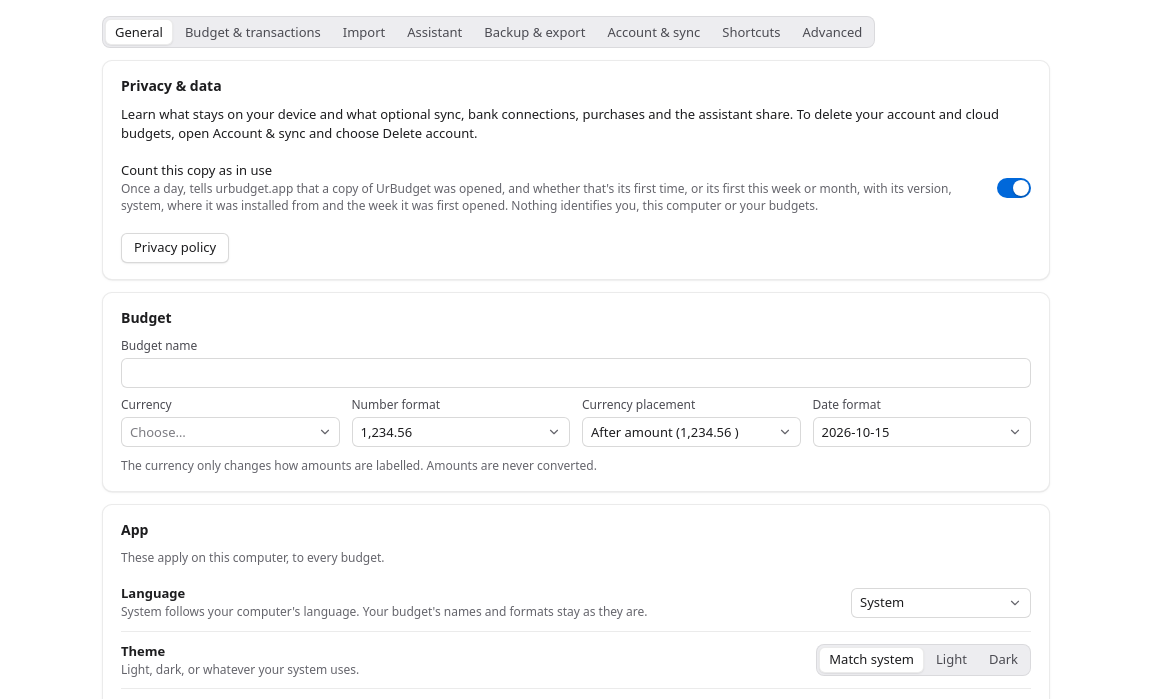
Scenario: Settings › General › Language › switches the open page to Arabic, right to left, without losing what's being typed
This screenshot has width=1152, height=699.
Type "Half-typed name" into the field labelled "Budget name" at (576, 373), box [121,358,1031,388]
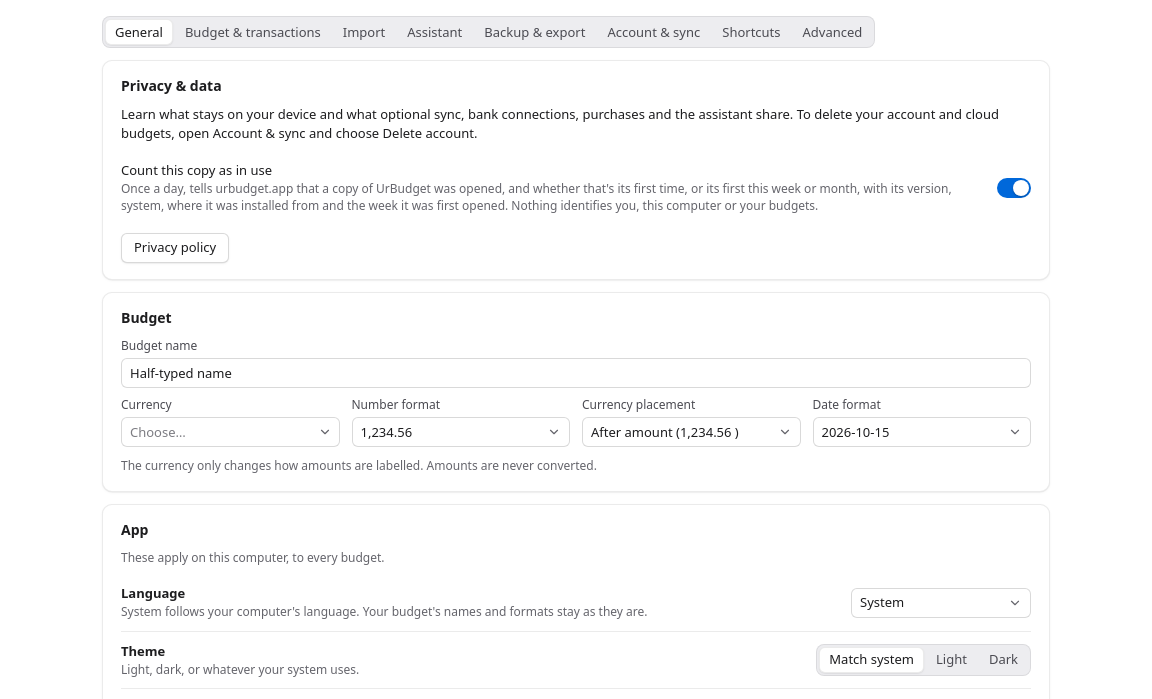
Select "العربية" in the dropdown named "Language" at (941, 602), box [851,588,1031,618]
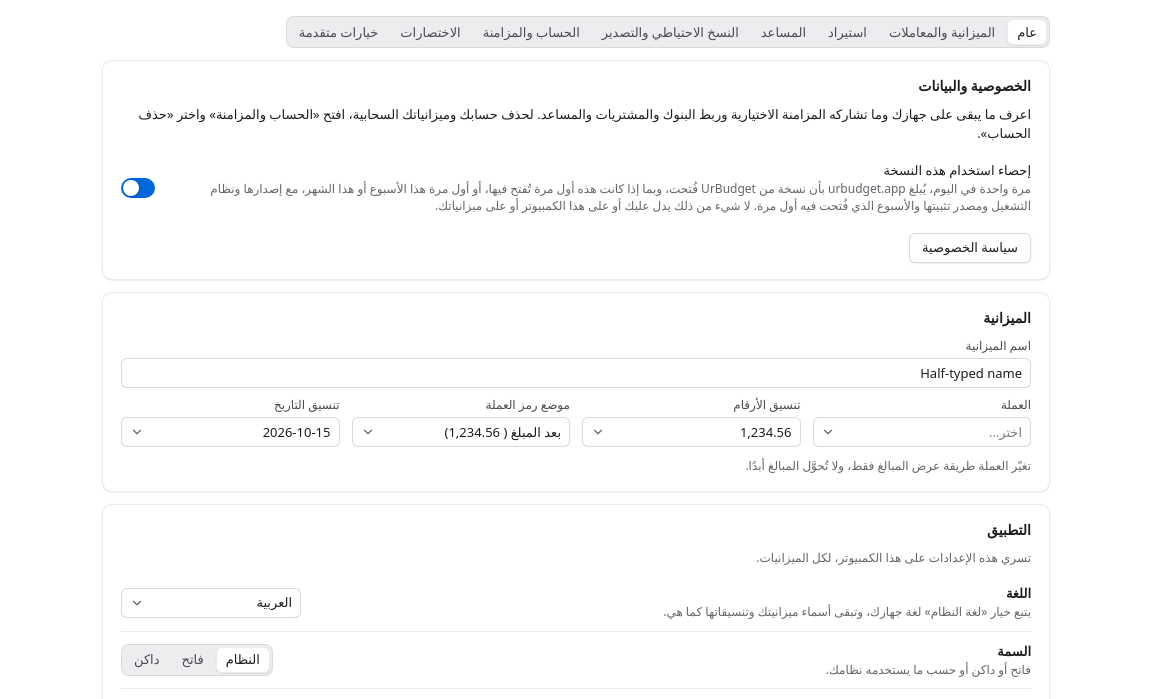
Expected: the element named "أقسام الإعدادات" is shown, [286,16,1050,48]
Expected: the heading "التطبيق" is shown, [987,520,1031,539]
Expected: the text "السمة" is shown, [997,642,1031,660]
Select "English" in the dropdown named "اللغة" at (211, 602), box [121,588,301,618]
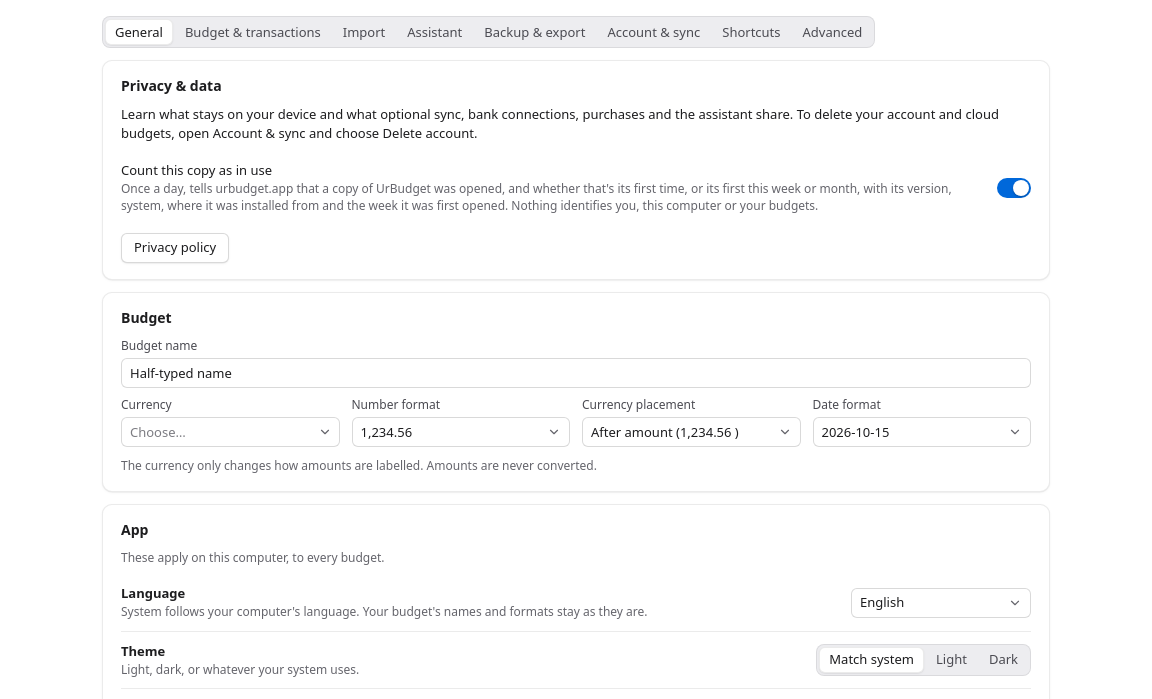
Expected: the heading "App" is shown, [121,520,148,539]
